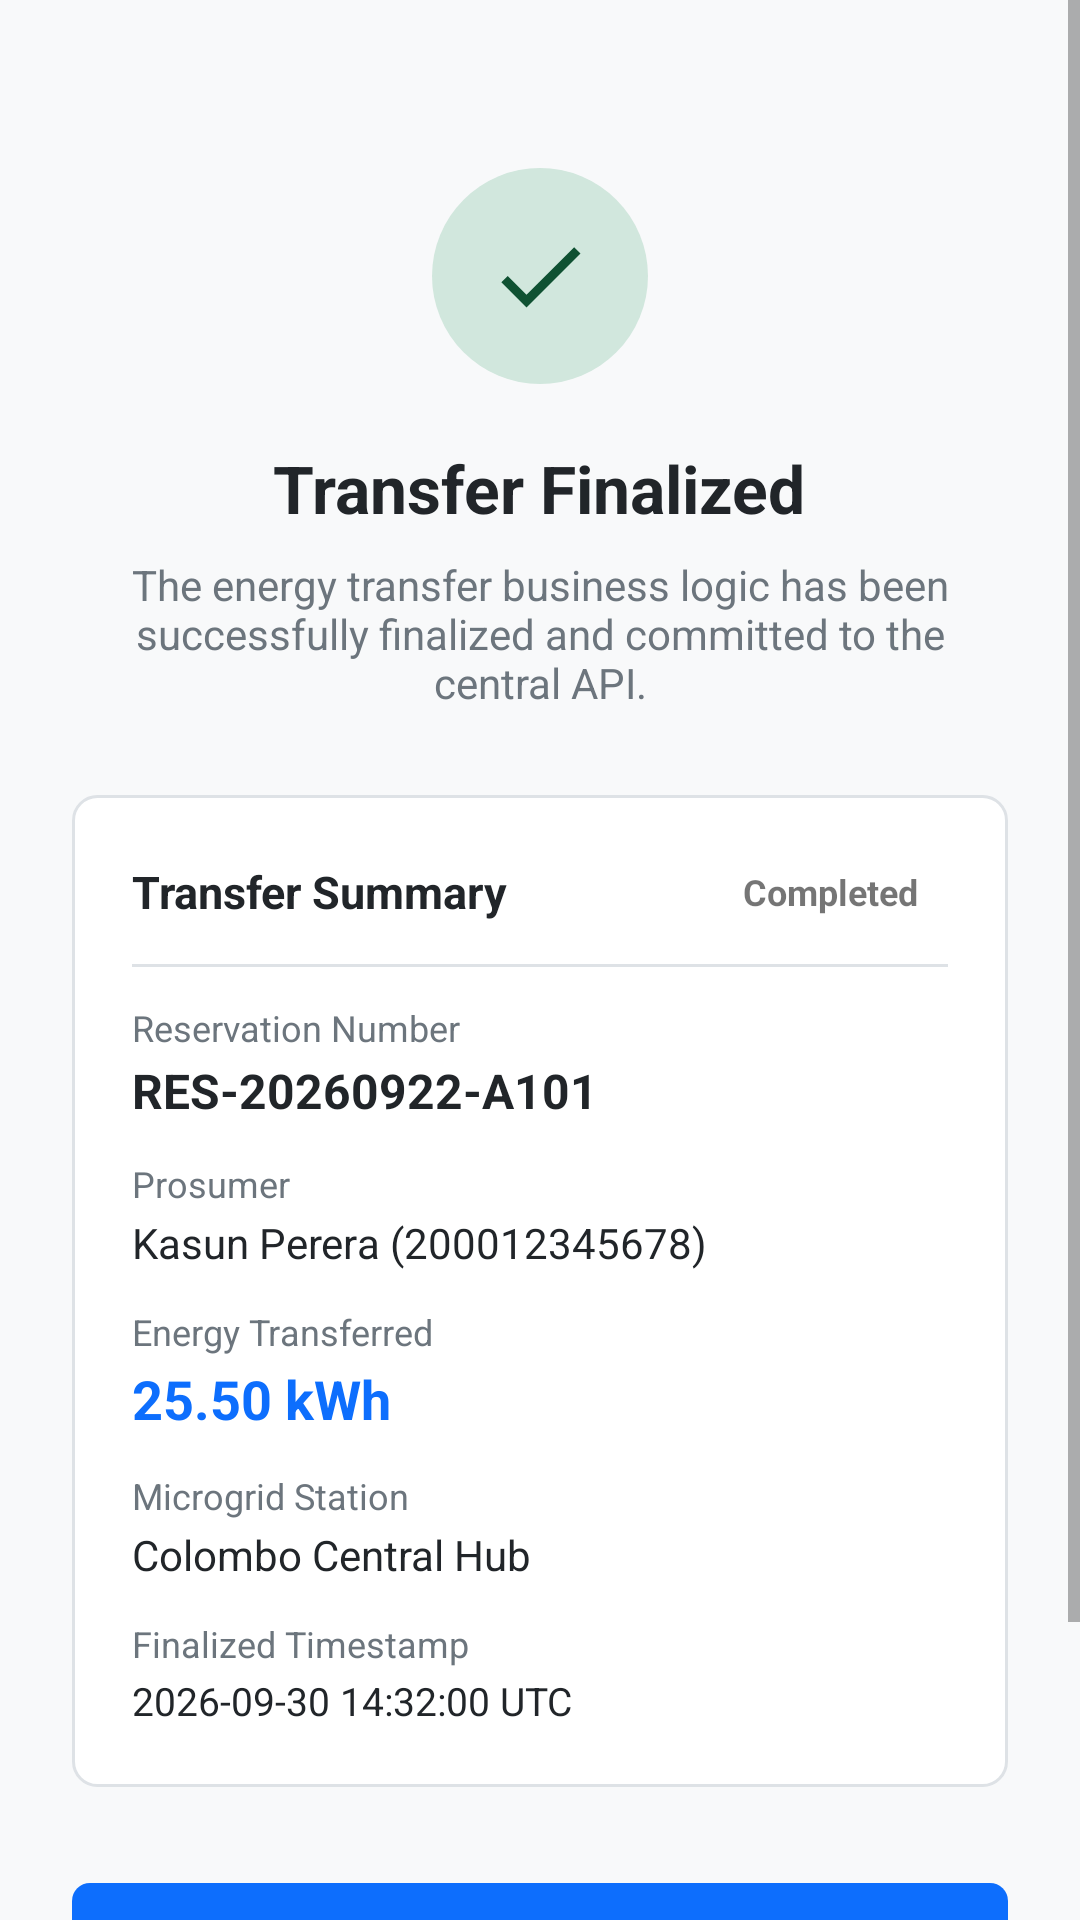

Icons on this 1080*1920 Android screen, each with the point to tap as (x=x, y=y):
Success: (x=540, y=276)
